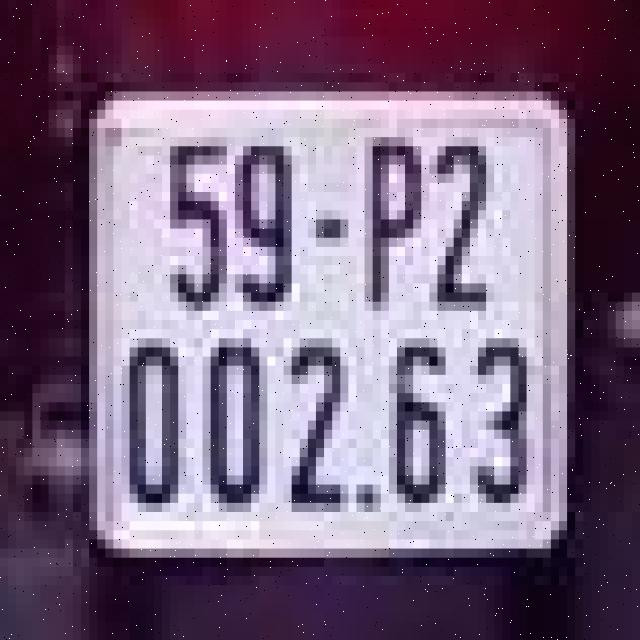0: (198, 329, 272, 512), (118, 329, 190, 512)
2: (276, 320, 356, 521), (430, 124, 494, 316)
3: (458, 329, 530, 512)
5: (162, 137, 235, 311)
6: (381, 324, 454, 516)
9: (231, 133, 304, 324)
P: (356, 110, 429, 311)
